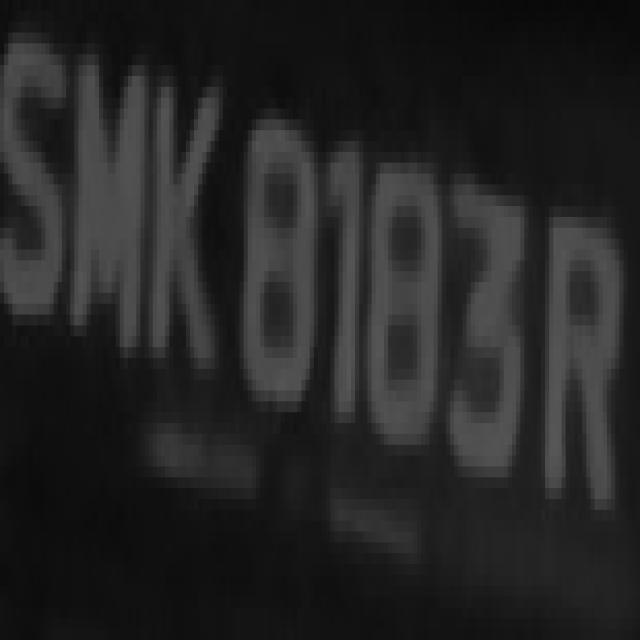1: (298, 108, 368, 456)
3: (454, 141, 529, 553)
8: (231, 65, 314, 488), (363, 87, 438, 477)
K: (153, 54, 231, 402)
M: (66, 43, 145, 369)
R: (536, 109, 628, 532)
S: (8, 33, 66, 358)
